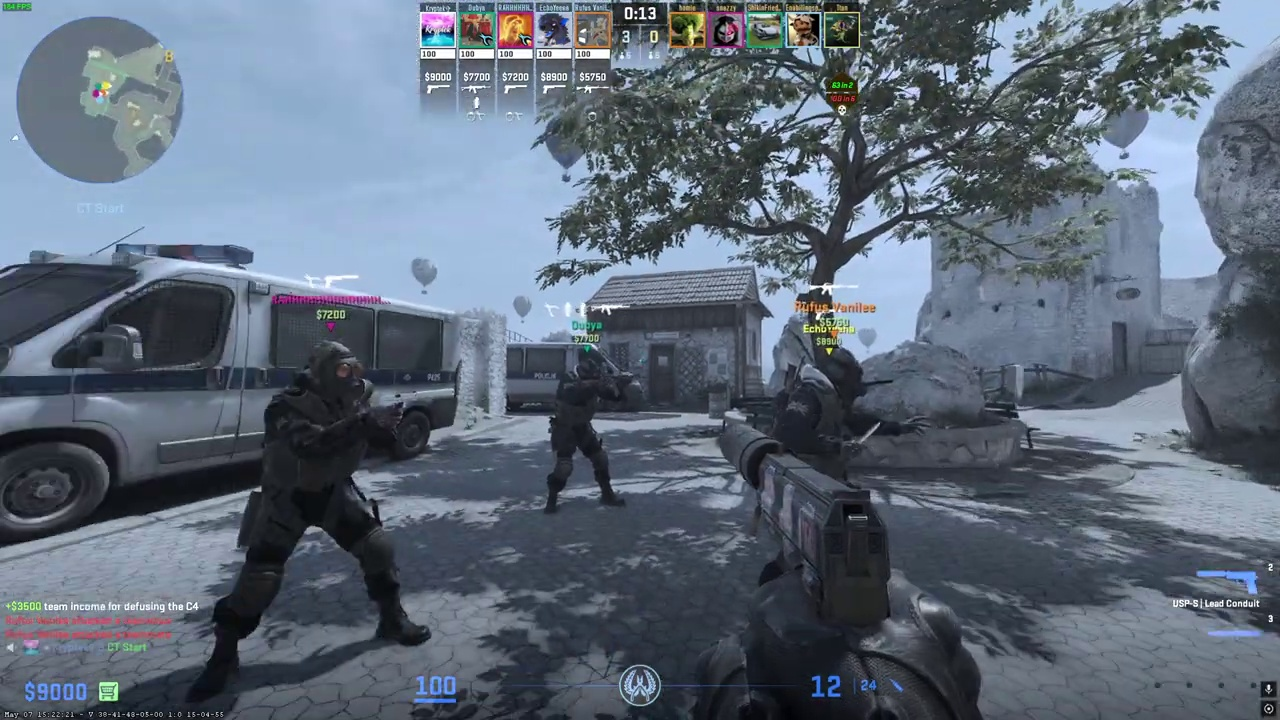CT: (212, 339, 431, 704), (770, 348, 872, 481), (544, 358, 625, 514)
